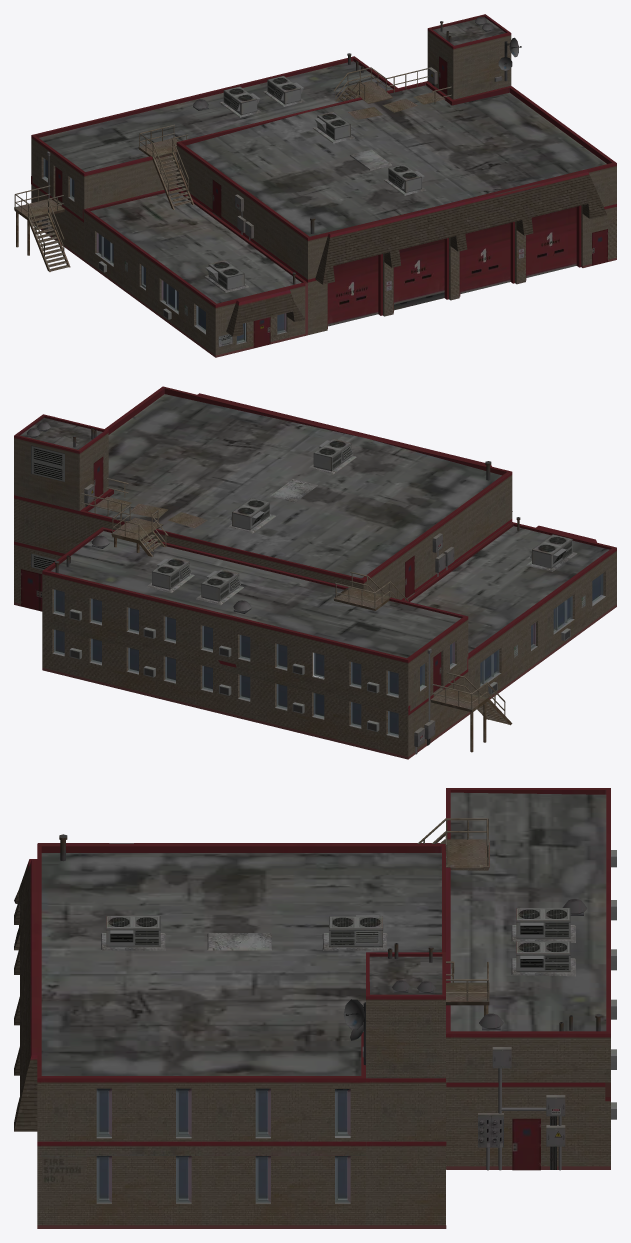
File: fire-station.walls-v1.lod1.glb
The picture shows the model from 3 angles, top to bottom: view 1: azimuth 30°, elevation 25°; view 2: azimuth 150°, elevation 25°; view 3: azimuth 270°, elevation 25°; orthographic projection. The views are drawn at different scales.
Parts seen in each view (by area): view 1: LOD0_Material #65_0; view 2: LOD0_Material #65_0; view 3: LOD0_Material #65_0.
Part boxes in pixels (left/top/right/bottom): LOD0_Material #65_0: left=14, top=14, right=616, bottom=357; LOD0_Material #65_0: left=14, top=386, right=616, bottom=759; LOD0_Material #65_0: left=14, top=788, right=616, bottom=1228.
Bounding box in the file's own units: 31.27 × 10.57 × 23.61.
Materials: 1 (1 with a texture image).
